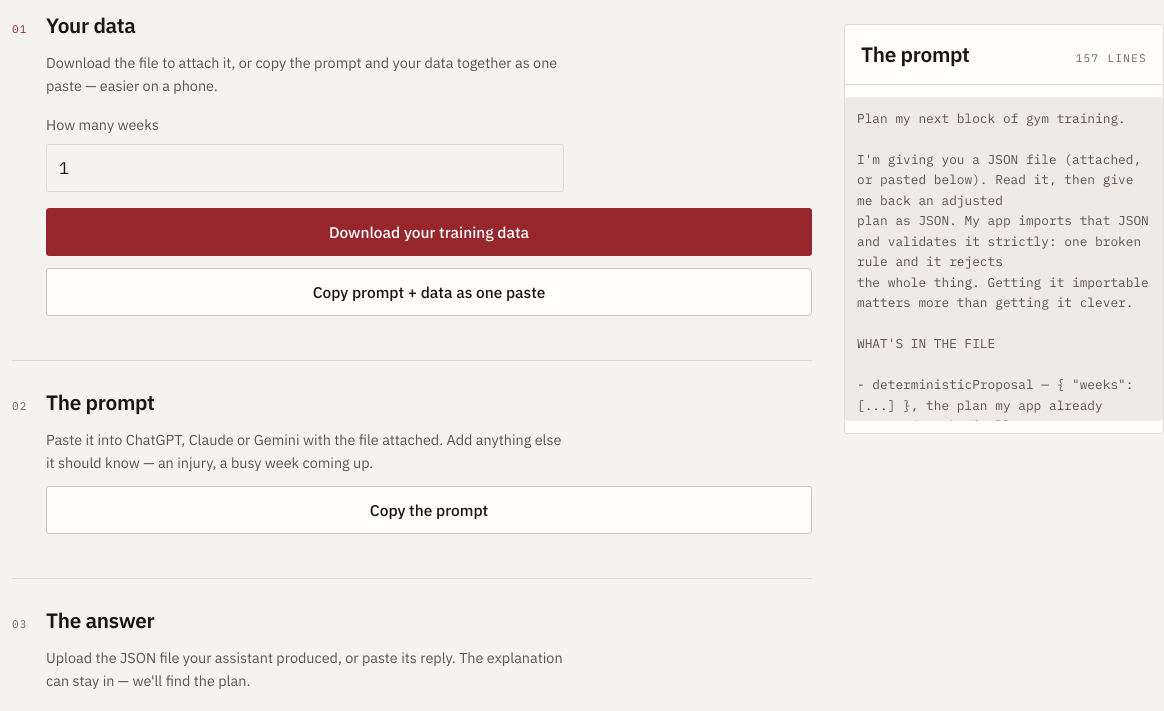
Test: Generate — step 1 download › shows an error instead of saving a blank file when the export fails
Click the button "Download your training data".
click(429, 232)  # box [46, 208, 812, 256]
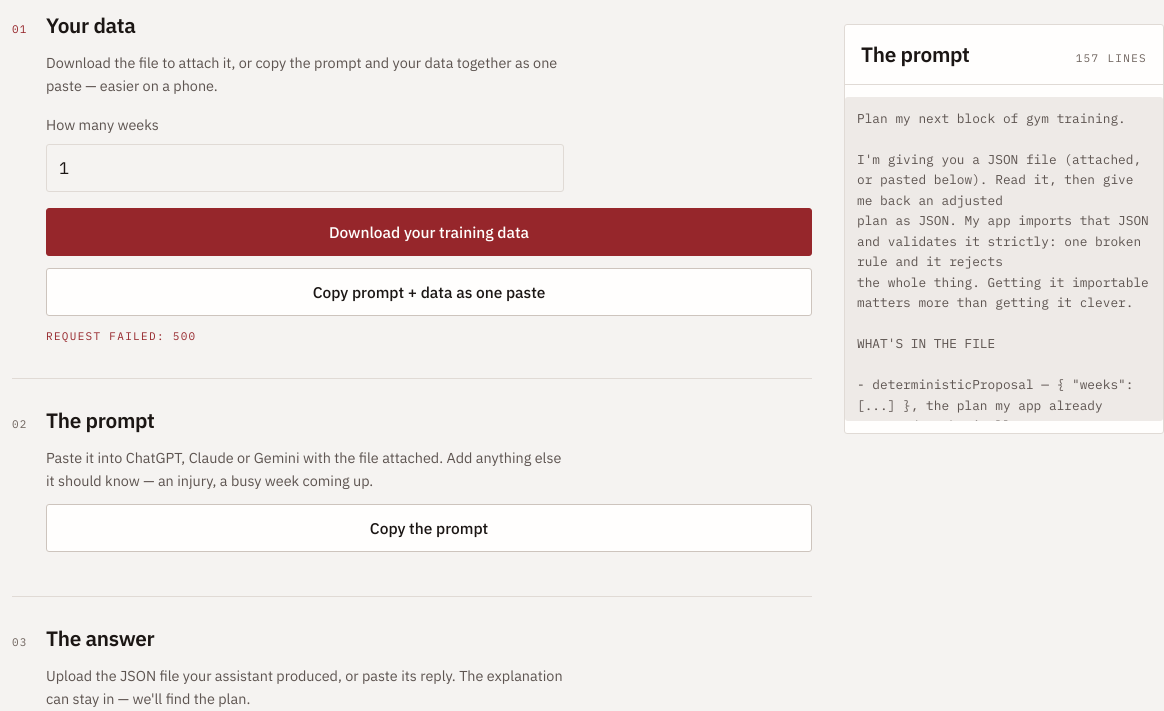
Check: the text with class "eyebrow--accent" shows "500", box [46, 329, 196, 343]
